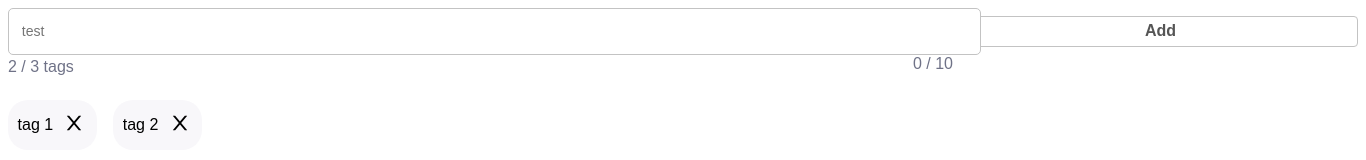
Test: when the user uses the component › should not add the same tag value
The image size is (1366, 160).
Expected: the text "2 / 3 tags" is shown, [8,58,74,76]
In the field: (494, 31) [8,8,981,55], type "tag 1"
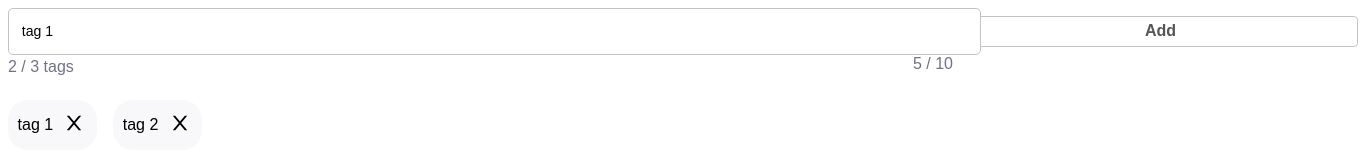
Click the button: (1160, 31) [963,16,1358,47]
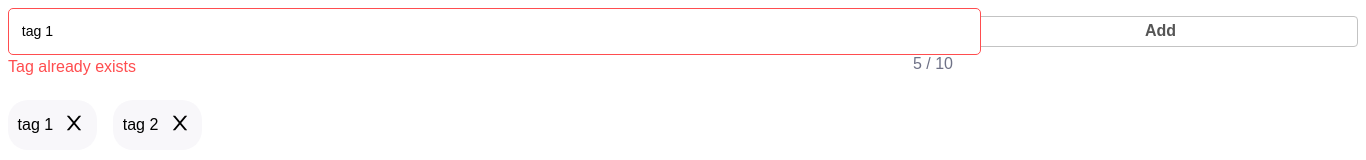
Now the text "Tag already exists" is shown, box [8,58,136,76]
Now the text "2 / 3 tags" is gone
